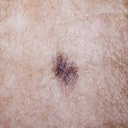Melanoma: (52, 51, 79, 90)
